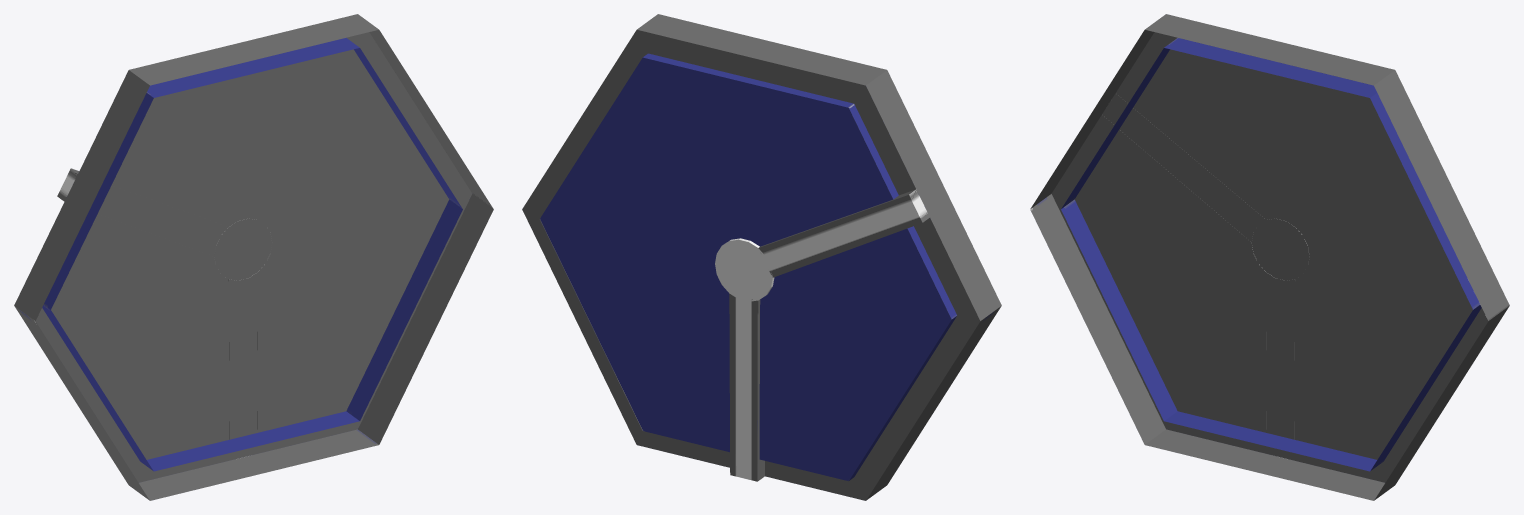
Rendered from Hexagons Middle 2 Trails Spaced.fbx.
3 renders of one model, left to right at view 1: azimuth 30°, elevation 25°; view 2: azimuth 150°, elevation 25°; view 3: azimuth 330°, elevation 25°, orthographic.
Parts seen in each view (by area): view 1: Cylinder.051; view 2: Cylinder.051; view 3: Cylinder.051.
Part boxes in pixels (x1,y1,x2,y2): Cylinder.051: (14,14,493,500); Cylinder.051: (522,14,1001,500); Cylinder.051: (1030,14,1509,500).
Size of the model in its own units: 13.94 by 12.07 by 1.52.
Materials: 1 (1 with a texture image).
